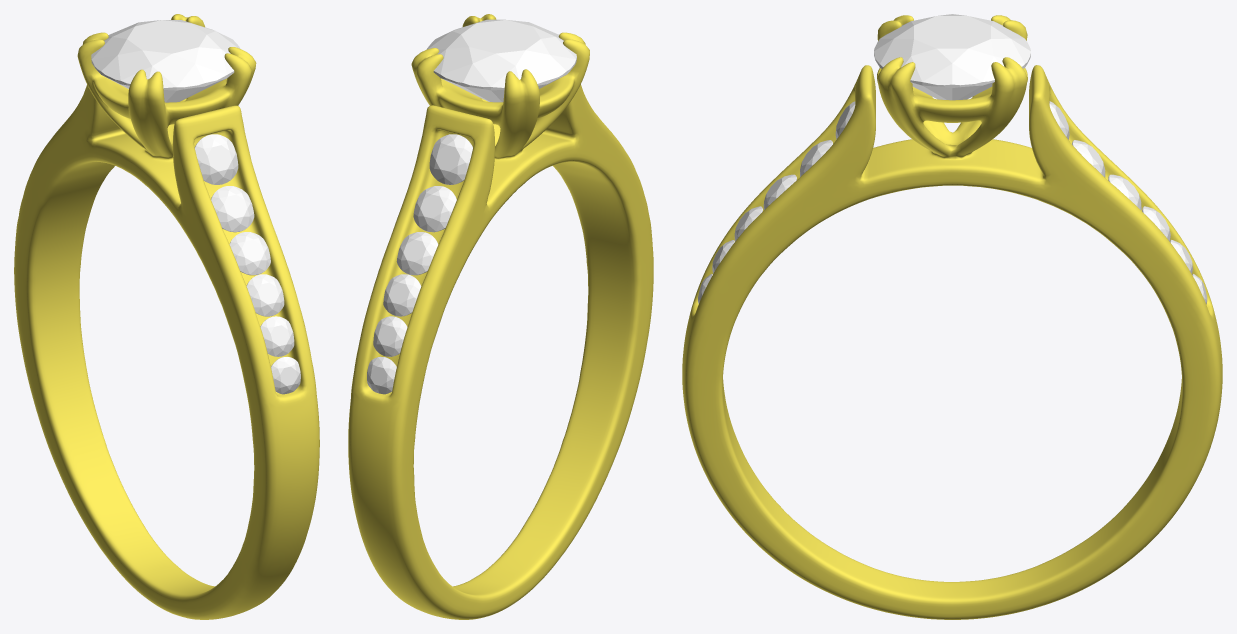
The model's file is hn_DSMTG4523.glb.
3 views of the same model, side by side, from view 1: azimuth 30°, elevation 25°; view 2: azimuth 150°, elevation 25°; view 3: azimuth 270°, elevation 25° (orthographic). The views are drawn at different scales.
Parts seen in each view (by area): view 1: fingerring, Diamond_Round_12.006, Diamond_Round_12.001, Diamond_Round_12.005, Diamond_Round_12.004, Diamond_Round_12.003, Diamond_Round_12.002, Diamond_Round_12; view 2: fingerring, Diamond_Round_12.006, Diamond_Round_12.007, Diamond_Round_12.011, Diamond_Round_12.010, Diamond_Round_12.009, Diamond_Round_12.008, Diamond_Round_12.012; view 3: fingerring, Diamond_Round_12.006.
Part boxes in pixels (x1,y1,x2,y2): fingerring: (14, 14, 319, 619); Diamond_Round_12.006: (91, 20, 240, 102); Diamond_Round_12.001: (194, 134, 238, 184); Diamond_Round_12.005: (211, 186, 254, 232); Diamond_Round_12.004: (229, 232, 270, 275); Diamond_Round_12.003: (246, 274, 284, 316); Diamond_Round_12.002: (260, 316, 294, 356); Diamond_Round_12: (271, 356, 300, 394); fingerring: (348, 14, 653, 619); Diamond_Round_12.006: (426, 19, 576, 102); Diamond_Round_12.007: (429, 134, 472, 184); Diamond_Round_12.011: (413, 186, 456, 232); Diamond_Round_12.010: (396, 232, 438, 275); Diamond_Round_12.009: (383, 274, 421, 316); Diamond_Round_12.008: (373, 316, 407, 356); Diamond_Round_12.012: (367, 356, 396, 394); fingerring: (682, 15, 1222, 619); Diamond_Round_12.006: (874, 14, 1030, 100).
Bounding box in the file's own units: 0.5605 × 2.29 × 1.93.
